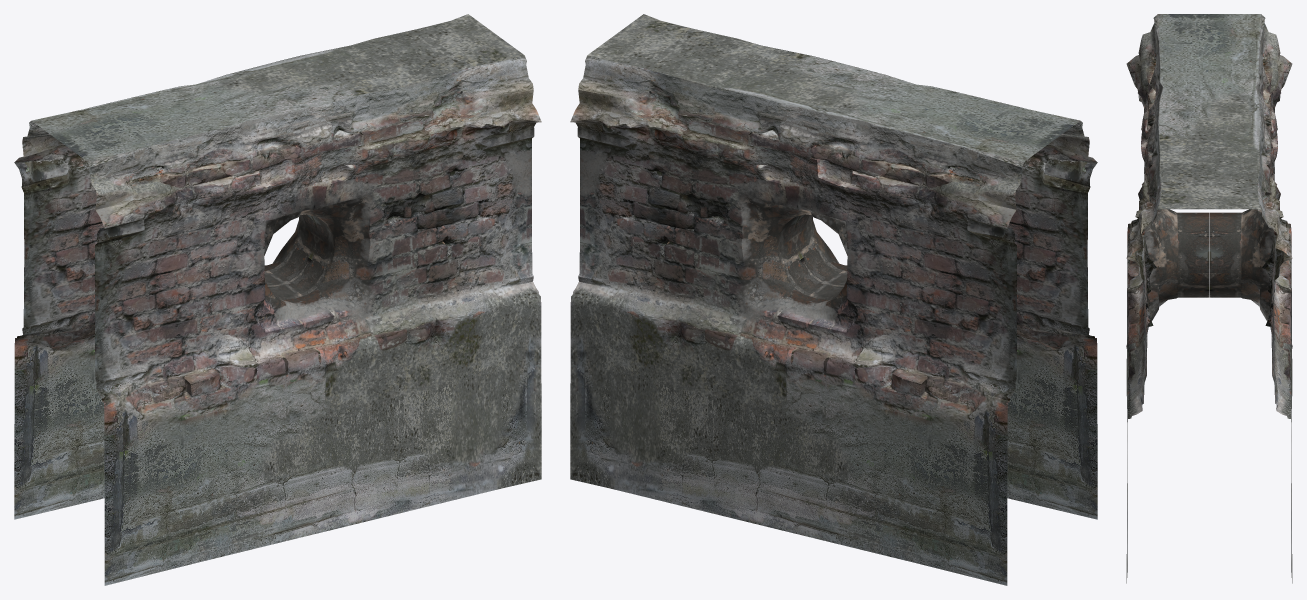
Rendered from SM_ChapelWall_04_04.fbx.
The picture shows the model from 3 angles, left to right: view 1: azimuth 30°, elevation 25°; view 2: azimuth 150°, elevation 25°; view 3: azimuth 270°, elevation 25°; orthographic projection. The views are drawn at different scales.
Visible parts, largest first — view 1: sm_ChapelWall_04_04_LOD0; view 2: sm_ChapelWall_04_04_LOD0; view 3: sm_ChapelWall_04_04_LOD0.
Part boxes in pixels (x1,y1,x2,y2): sm_ChapelWall_04_04_LOD0: (14, 14, 541, 585); sm_ChapelWall_04_04_LOD0: (570, 14, 1097, 585); sm_ChapelWall_04_04_LOD0: (1126, 14, 1292, 583).
Size of the model in its own units: 90.09 by 250 by 225.
